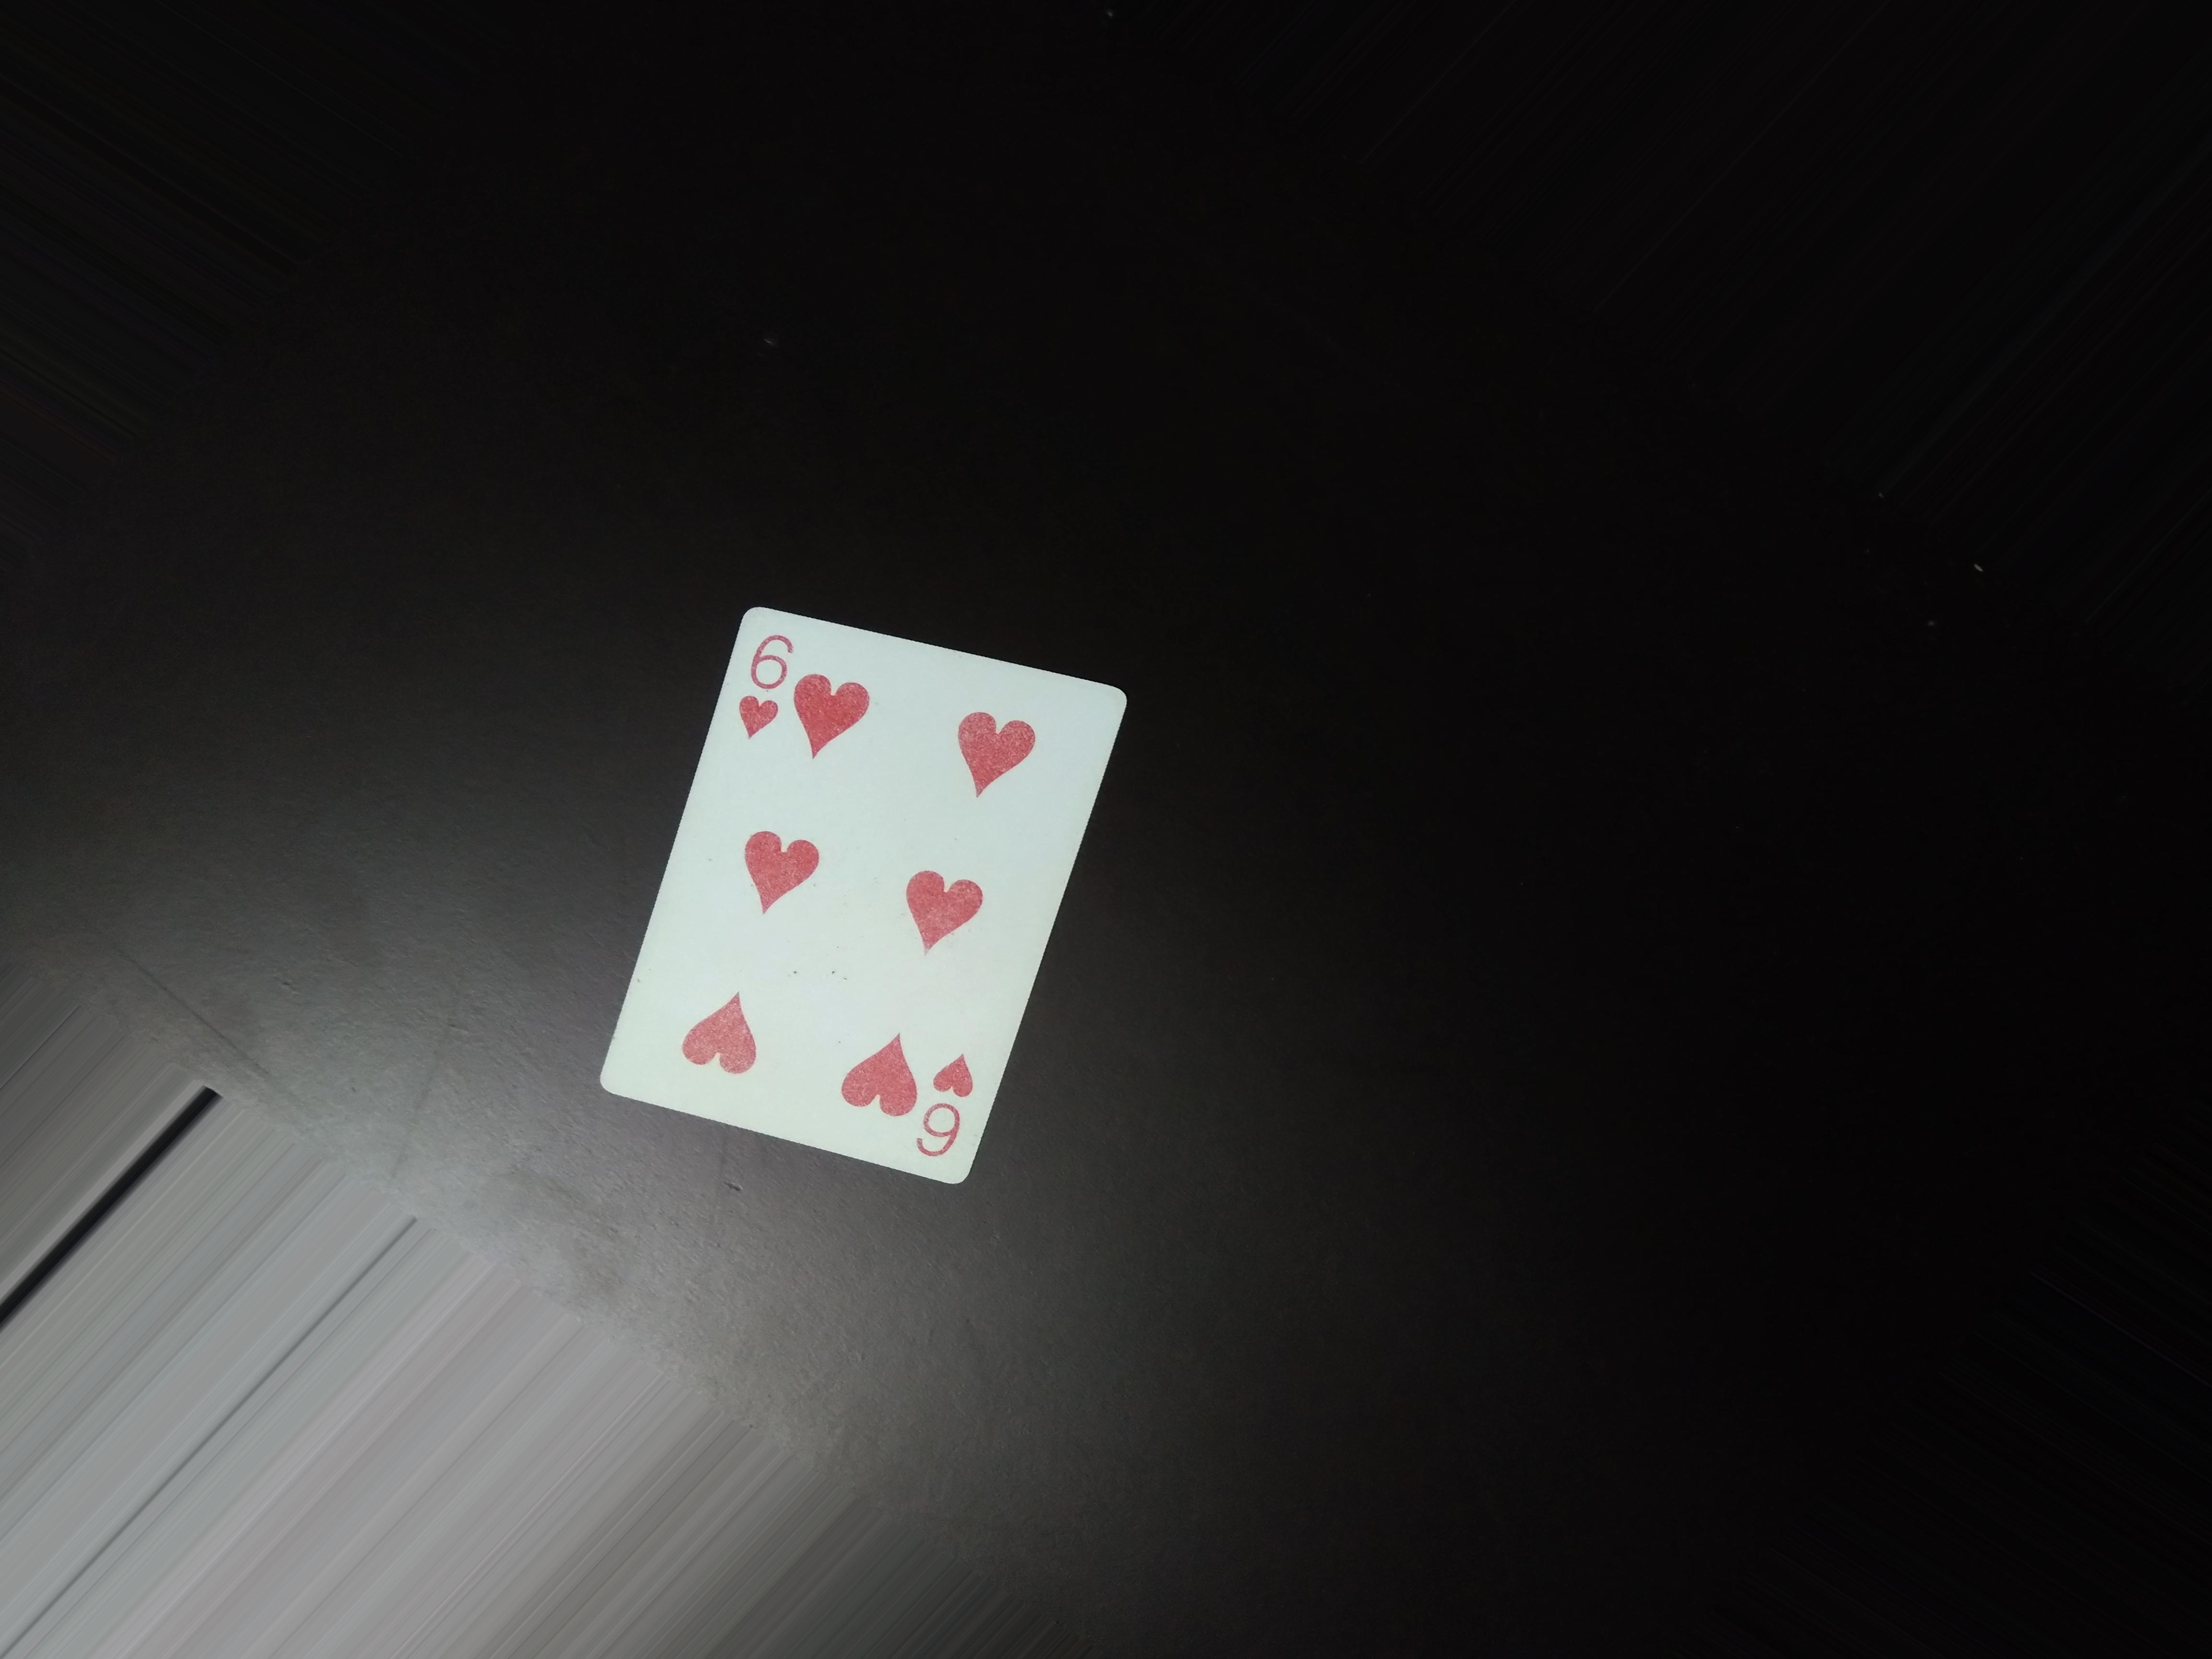6H: (920, 1058, 974, 1166)
